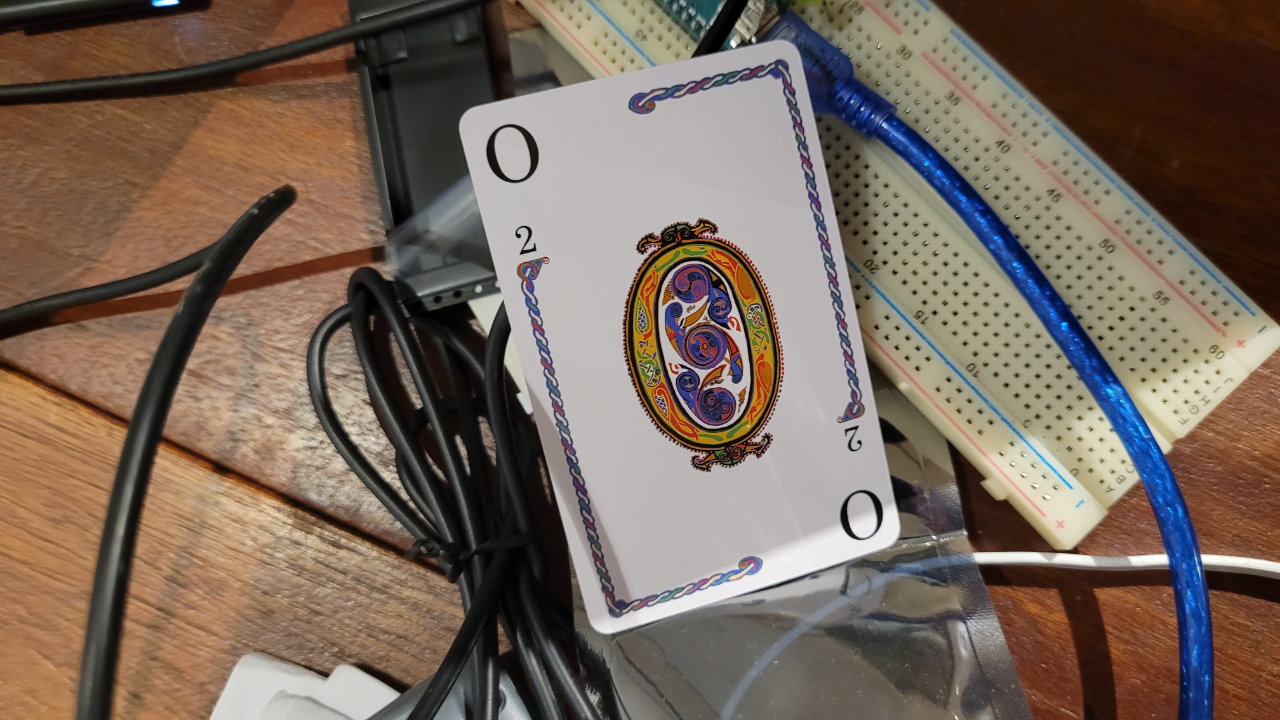quiddler_card: (435, 33, 944, 644)
